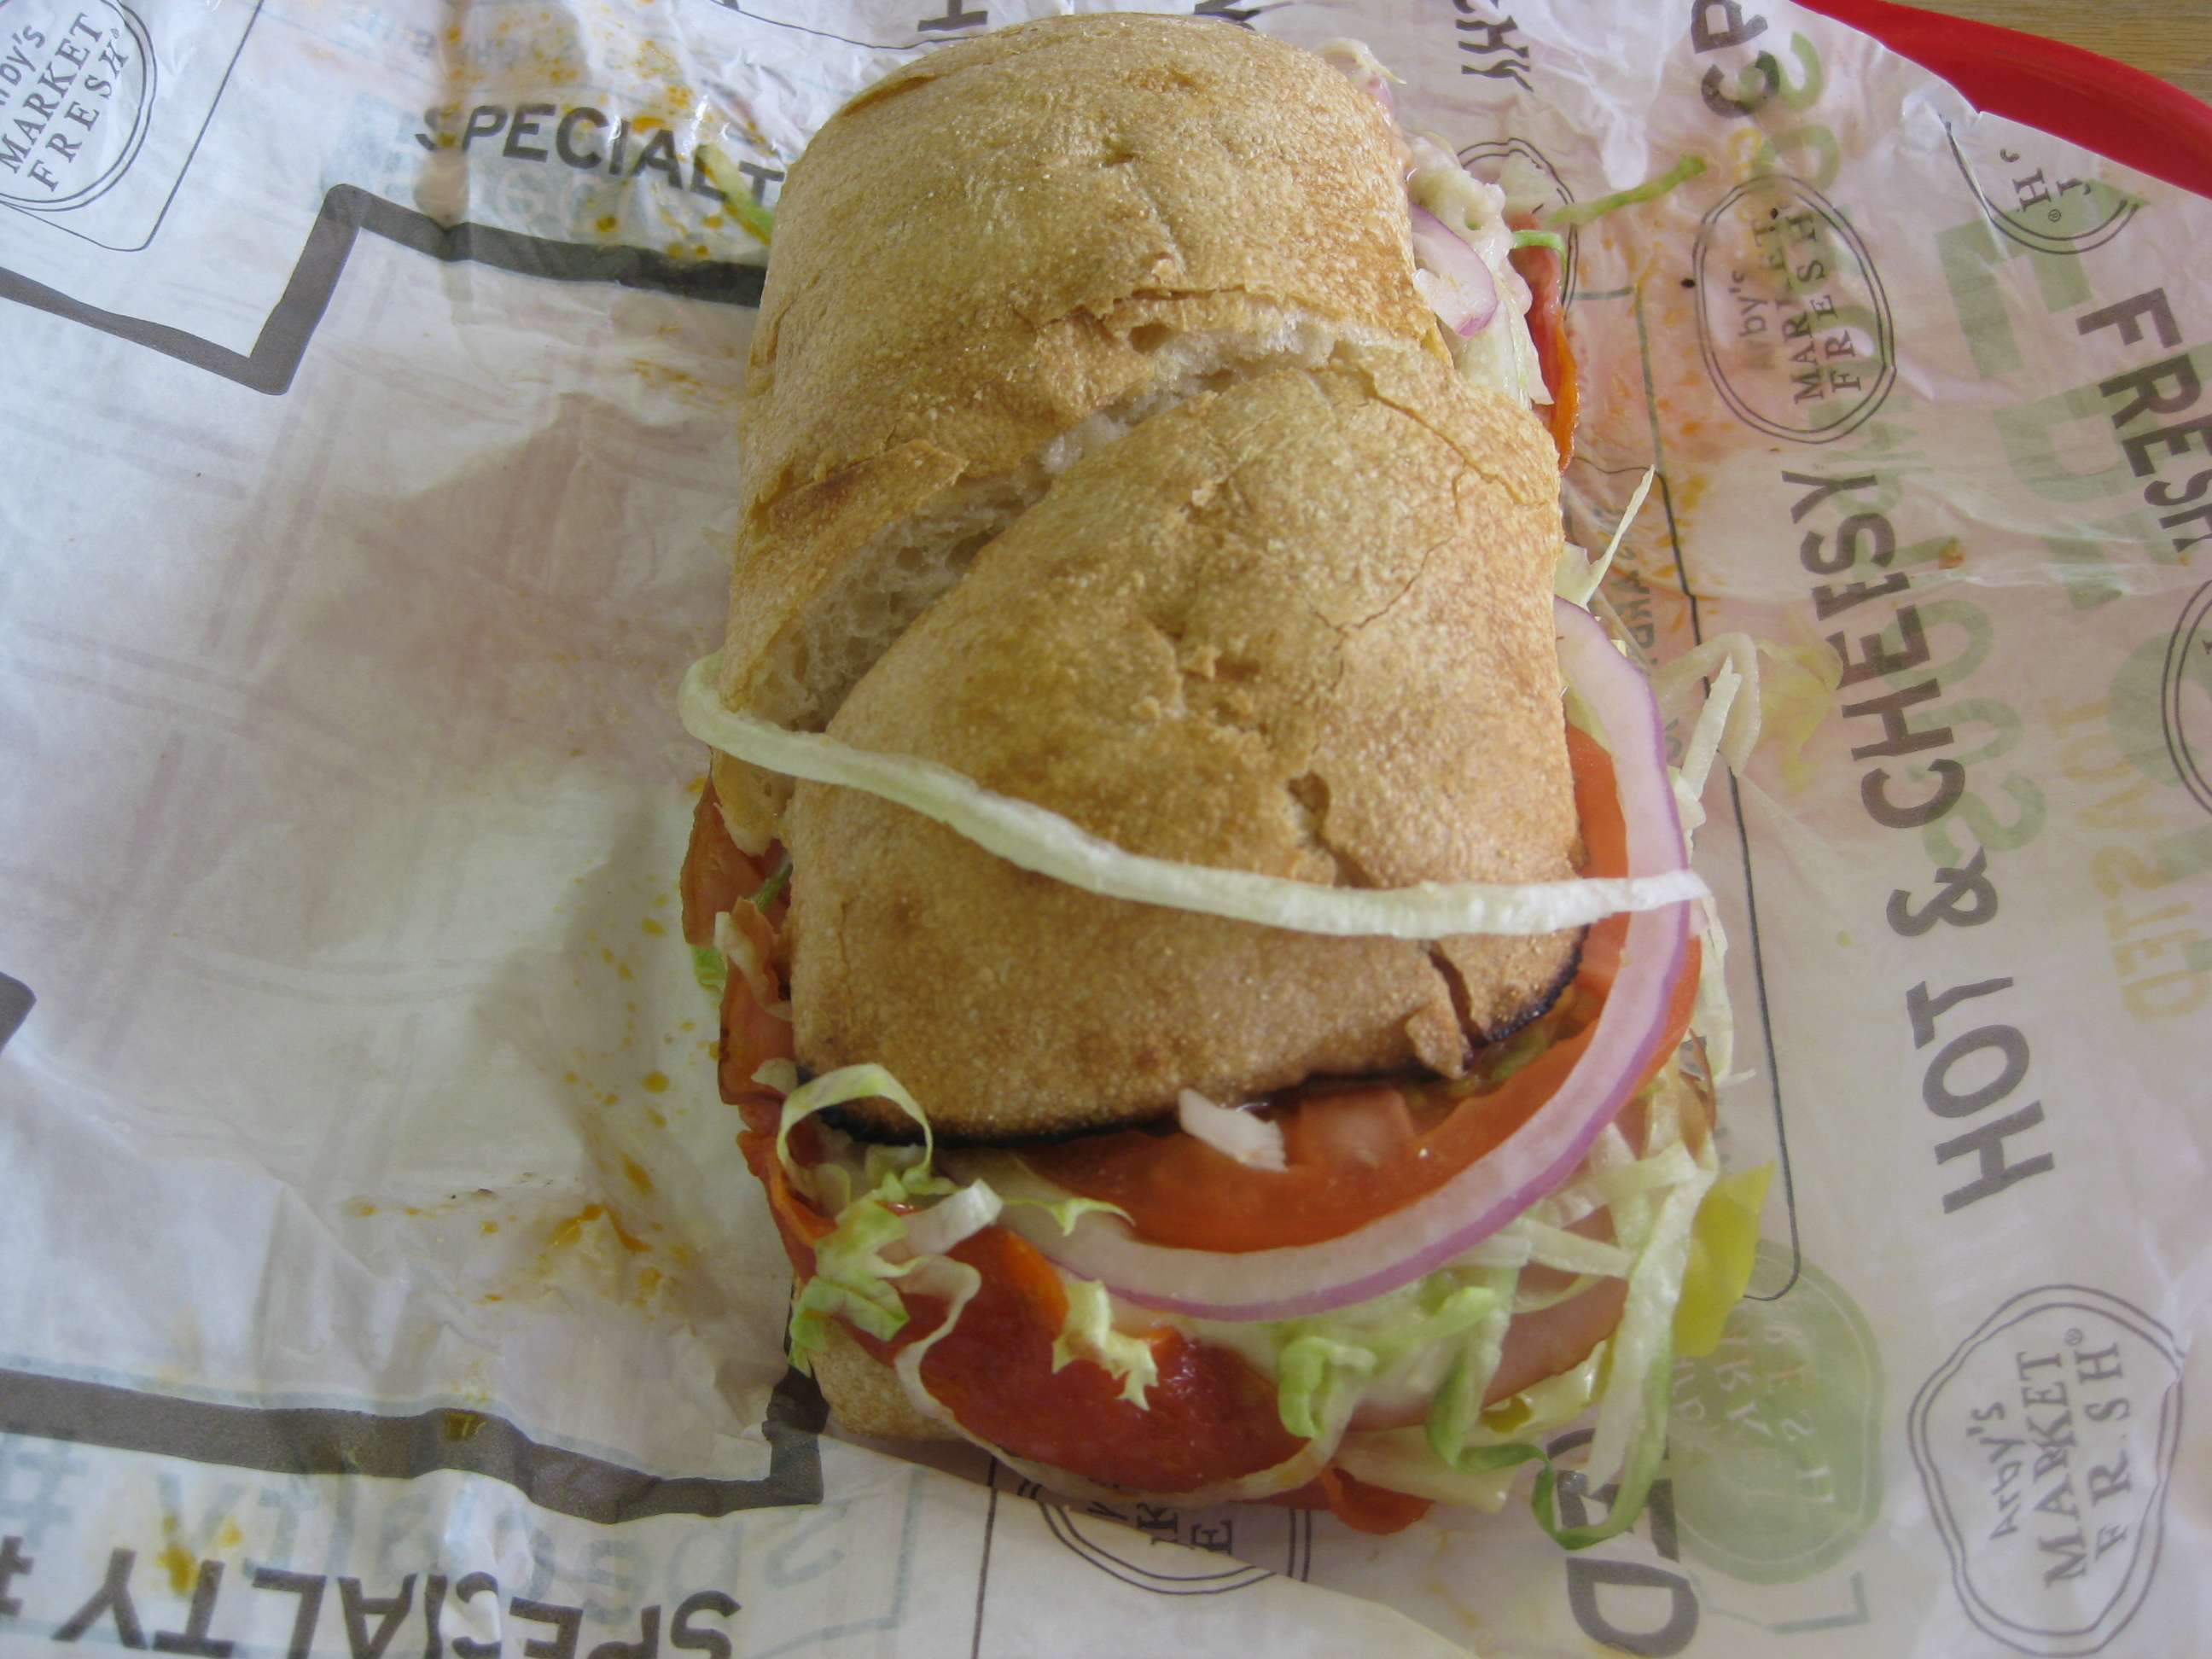sub: (723, 12, 1766, 1534)
